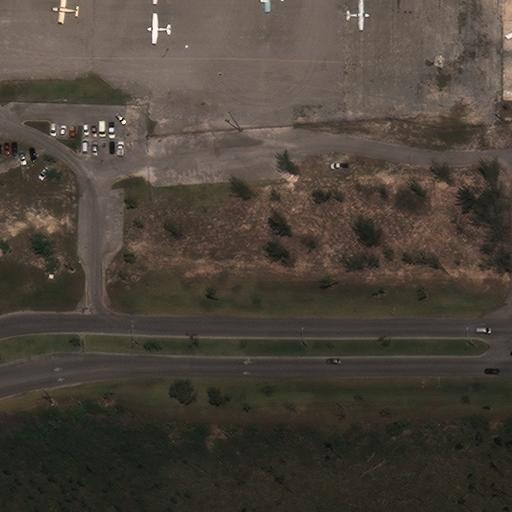Small Civil Transport: (344, 0, 369, 30), (147, 13, 170, 44), (51, 0, 79, 23), (257, 0, 279, 12)
